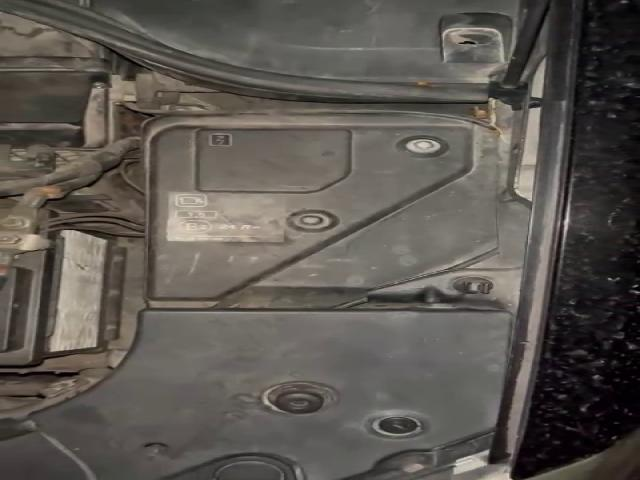fuse_box: (139, 112, 494, 307)
